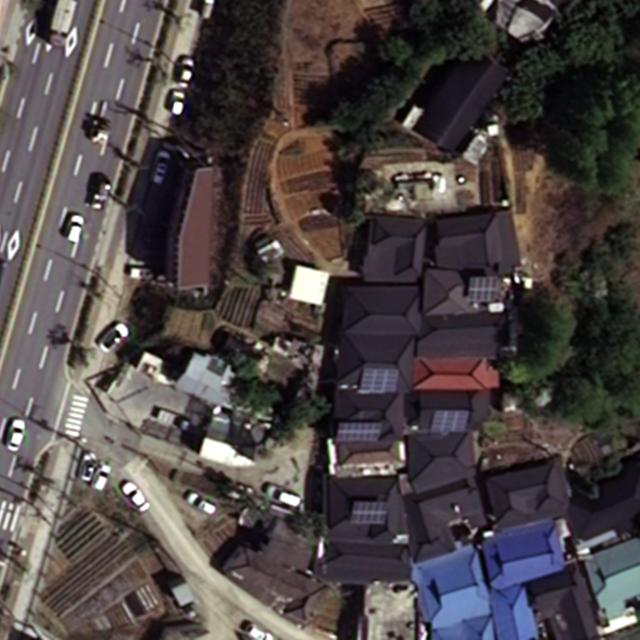panel: (332, 421, 385, 444), (347, 500, 390, 526), (358, 367, 399, 393), (429, 408, 470, 433), (466, 275, 498, 302)
